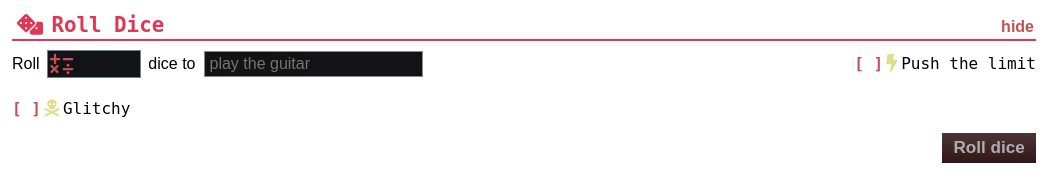
hide button › hides when toggled
The width and height of the screenshot is (1048, 180).
What coordinates should you click on to do the following:
click the button "hide"
I would click on:
 (1018, 26)
Its box is left=999, top=16, right=1036, bottom=34.
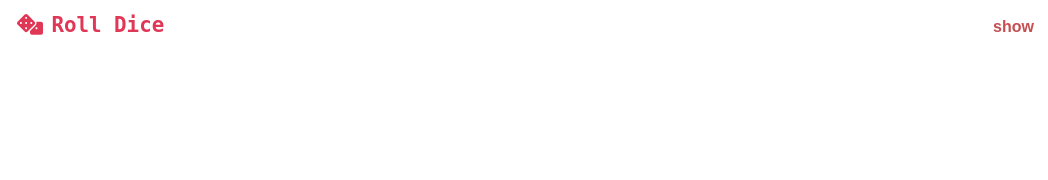
Expected: the field is gone
